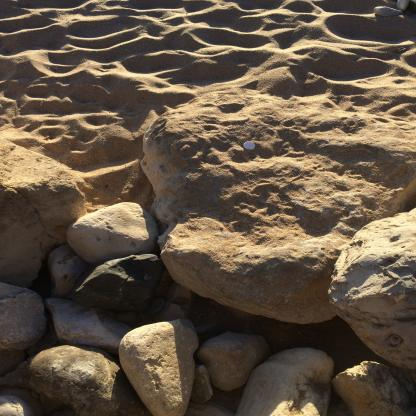trash: (240, 140, 258, 150)
